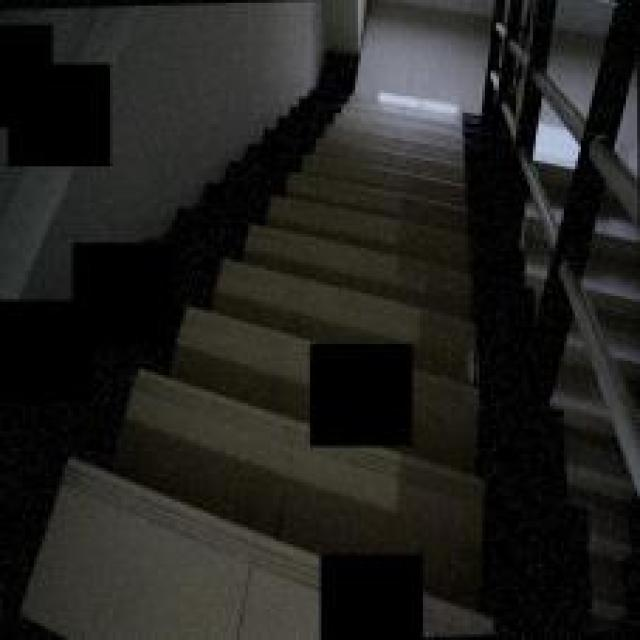downstair: (234, 130, 510, 330)
